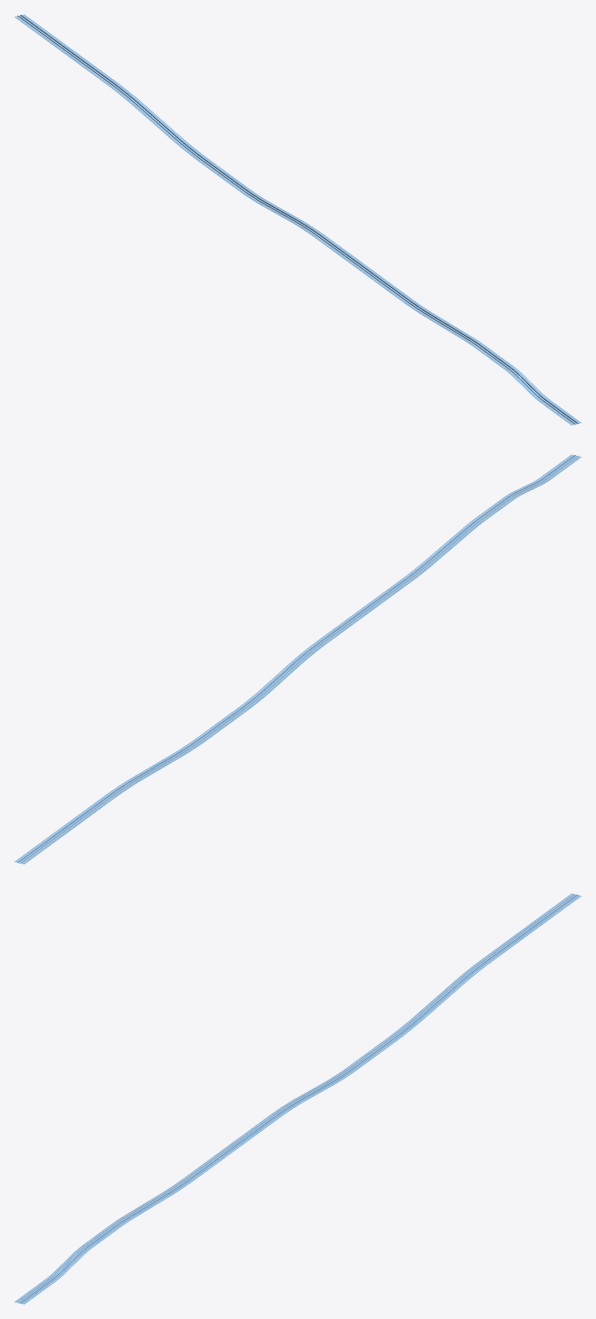
File: snow track4_1.fbx
3 views of the same model, one above another, from view 1: azimuth 30°, elevation 25°; view 2: azimuth 150°, elevation 25°; view 3: azimuth 330°, elevation 25° (orthographic).
Visible parts, largest first — view 1: Plane.008, Plane.009, Plane.011, Plane.010; view 2: Plane.008, Plane.009, Plane.011, Plane.010; view 3: Plane.008, Plane.009, Plane.011, Plane.010.
Part boxes in pixels (box(x1,y1,x2,y2)): Plane.008: box(14, 14, 581, 425); Plane.009: box(19, 15, 577, 424); Plane.011: box(20, 15, 577, 423); Plane.010: box(17, 15, 574, 424); Plane.008: box(14, 454, 581, 864); Plane.009: box(18, 455, 576, 863); Plane.011: box(18, 455, 575, 862); Plane.010: box(21, 455, 578, 863); Plane.008: box(14, 893, 581, 1304); Plane.009: box(18, 894, 576, 1303); Plane.011: box(20, 894, 577, 1303); Plane.010: box(17, 893, 574, 1302).
Size of the model in its own units: 1142 by 1780 by 105986.
1 material, 1 textured.
